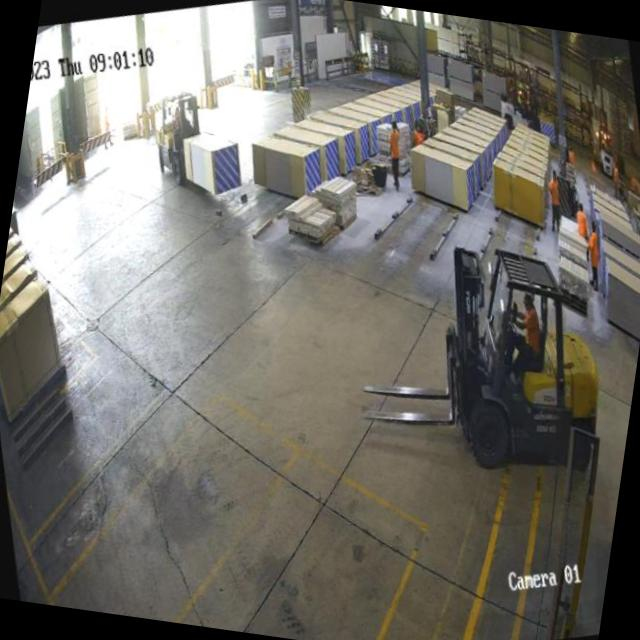driver: (496, 282, 562, 384)
forklift: (394, 197, 640, 514), (137, 82, 217, 189), (590, 123, 622, 178)
person: (376, 118, 417, 194), (576, 220, 614, 290), (536, 164, 572, 232), (572, 204, 595, 240), (409, 120, 426, 146)
